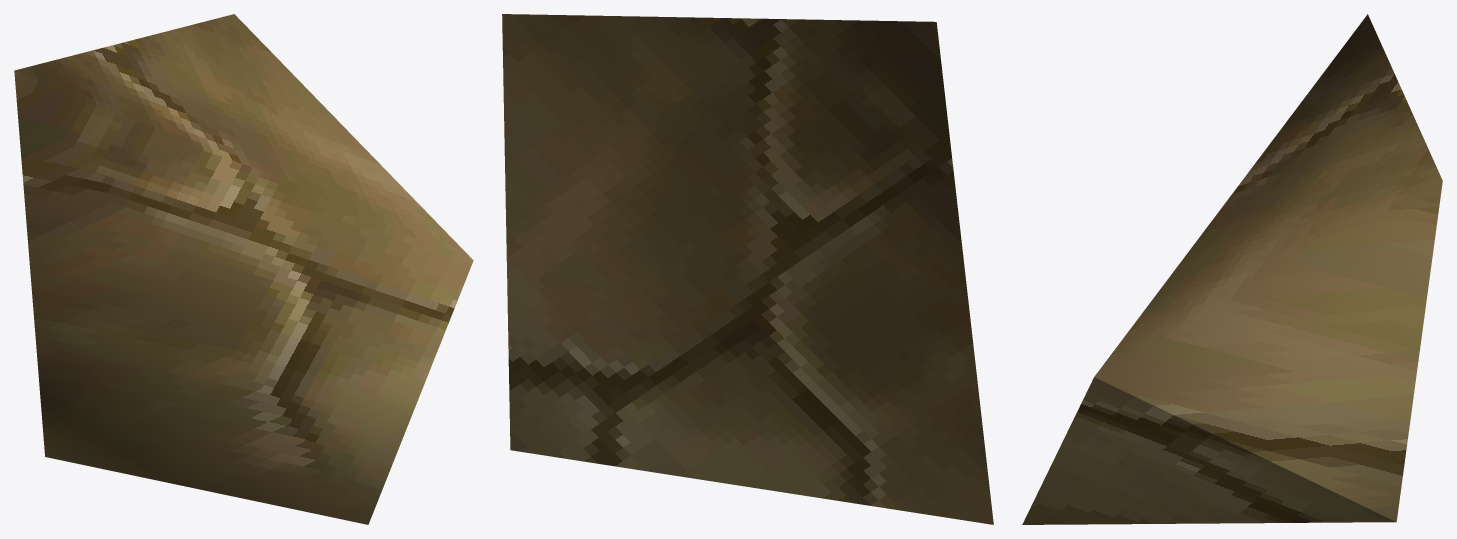
File: GroundBall.fbx
The picture shows the model from 3 angles, left to right: view 1: azimuth 30°, elevation 25°; view 2: azimuth 150°, elevation 25°; view 3: azimuth 270°, elevation 25°; orthographic projection. The views are drawn at different scales.
Parts seen in each view (by area): view 1: mesh_43_; view 2: mesh_43_; view 3: mesh_43_.
Boxes of the visible parts, bbox=[...] form: mesh_43_: bbox=[14, 14, 473, 524]; mesh_43_: bbox=[502, 14, 993, 524]; mesh_43_: bbox=[1022, 14, 1442, 524].
Size of the model in its own units: 202 by 220 by 205.
Materials: 1 (1 with a texture image).
